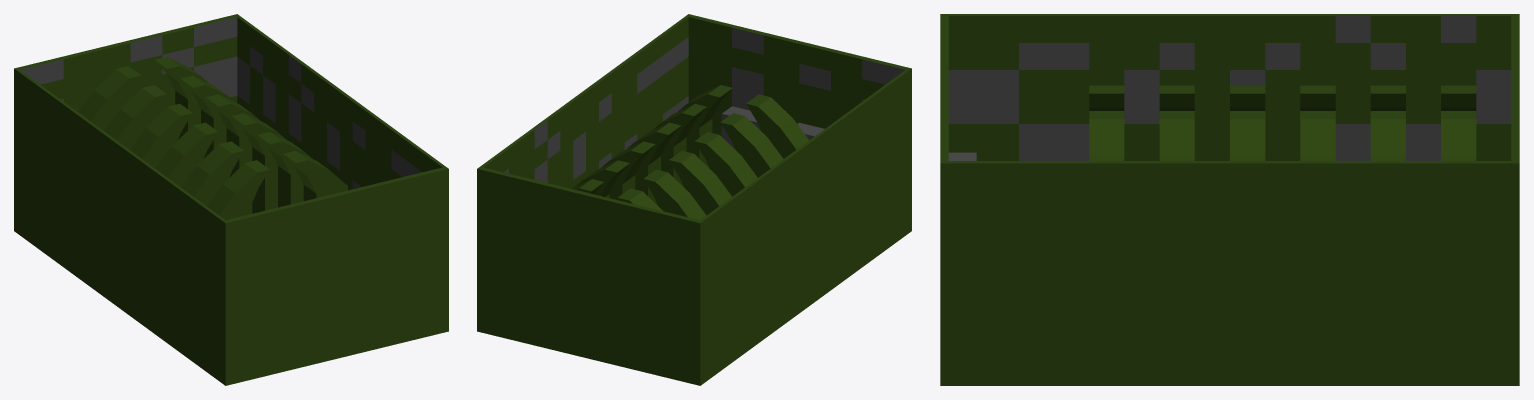
Rendered from matrix.glb.
3 views of the same model, side by side, from view 1: azimuth 30°, elevation 25°; view 2: azimuth 150°, elevation 25°; view 3: azimuth 270°, elevation 25° (orthographic). The views are drawn at different scales.
Visible parts, largest first — view 1: merged; view 2: merged; view 3: merged.
Boxes of the visible parts, box(x1,y1,x2,y2) form: merged: box(14, 14, 448, 385); merged: box(477, 14, 911, 385); merged: box(940, 14, 1519, 385).
Bounding box in the file's own units: 22.84 × 15.91 × 37.49.
